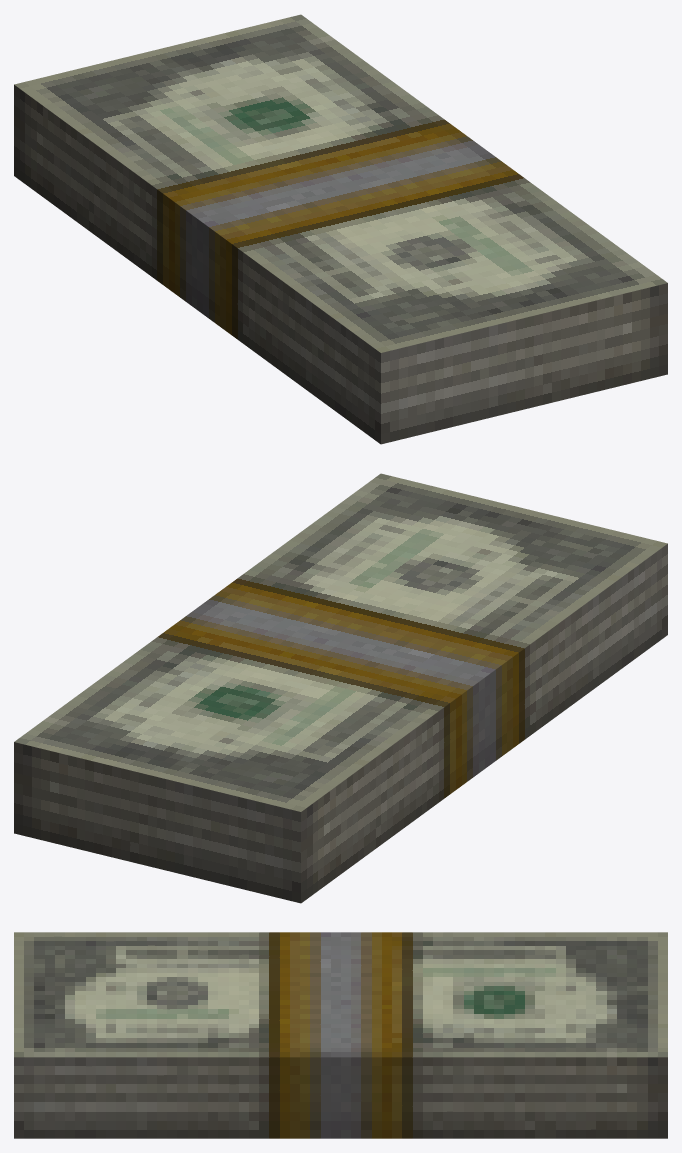
The model's file is cash_1.glb.
The picture shows the model from 3 angles, top to bottom: view 1: azimuth 30°, elevation 25°; view 2: azimuth 150°, elevation 25°; view 3: azimuth 270°, elevation 25°; orthographic projection. The views are drawn at different scales.
Parts seen in each view (by area): view 1: cash_1; view 2: cash_1; view 3: cash_1.
Part boxes in pixels (x1,y1,x2,y2): cash_1: (14,14,667,444); cash_1: (14,473,667,903); cash_1: (14,932,667,1138).
Bounding box in the file's own units: 0.1031 × 0.0314 × 0.2281.
Materials: 1 (1 with a texture image).
